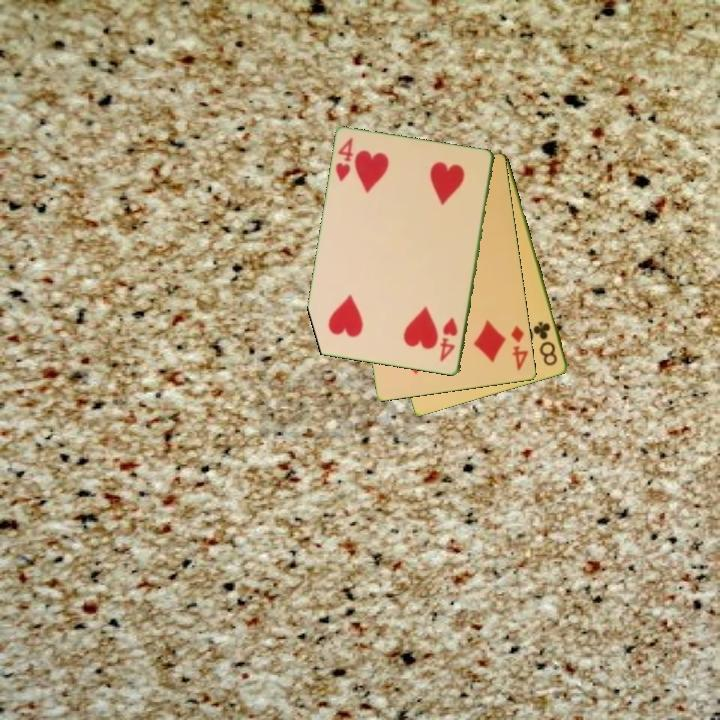4d: (508, 322, 531, 374)
4h: (437, 314, 461, 365), (332, 134, 356, 185)
8c: (530, 318, 561, 369)
